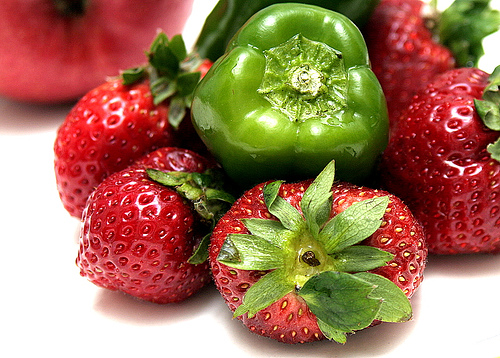capsicum: (191, 3, 388, 179)
